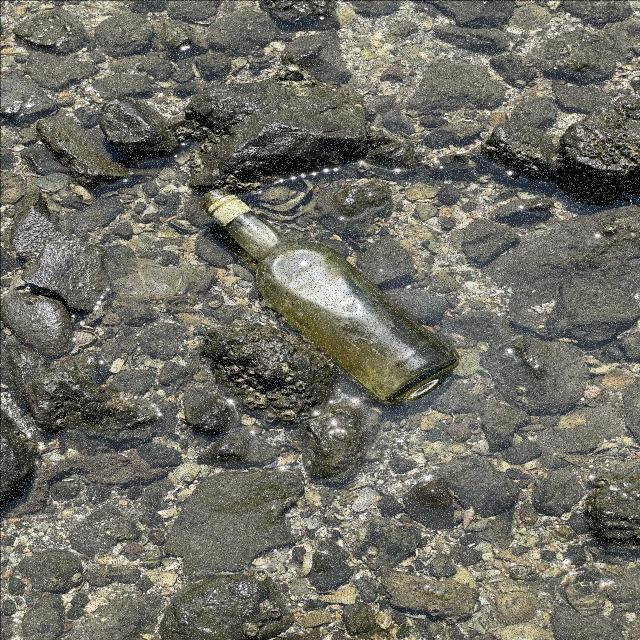glass_waste: (197, 186, 465, 407)
